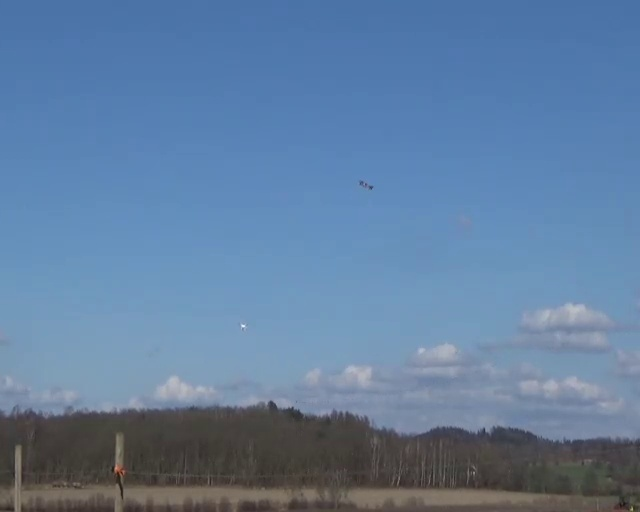DRONE: (359, 179, 373, 190)
